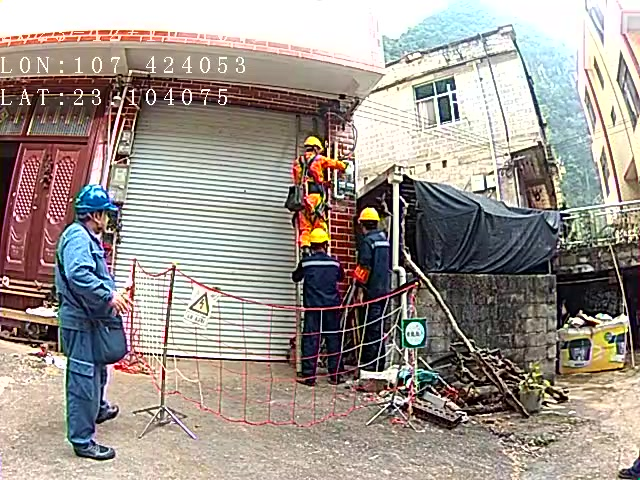badge: (351, 266, 373, 287)
downsuit: (60, 323, 127, 446), (302, 311, 343, 374)
halt: (74, 183, 112, 224), (307, 228, 333, 253), (359, 207, 381, 234), (303, 136, 324, 158)
hand: (109, 292, 132, 314)
inear: (86, 210, 109, 233)
intosign: (401, 317, 427, 348)
person: (53, 182, 130, 459), (292, 227, 346, 384), (352, 206, 395, 368), (293, 135, 347, 254)
safebelt: (282, 148, 334, 229)
upsuit: (56, 219, 118, 316), (295, 253, 345, 308), (358, 230, 392, 289)
ydownsuit: (296, 199, 336, 250)
yupsuit: (290, 153, 348, 201)
